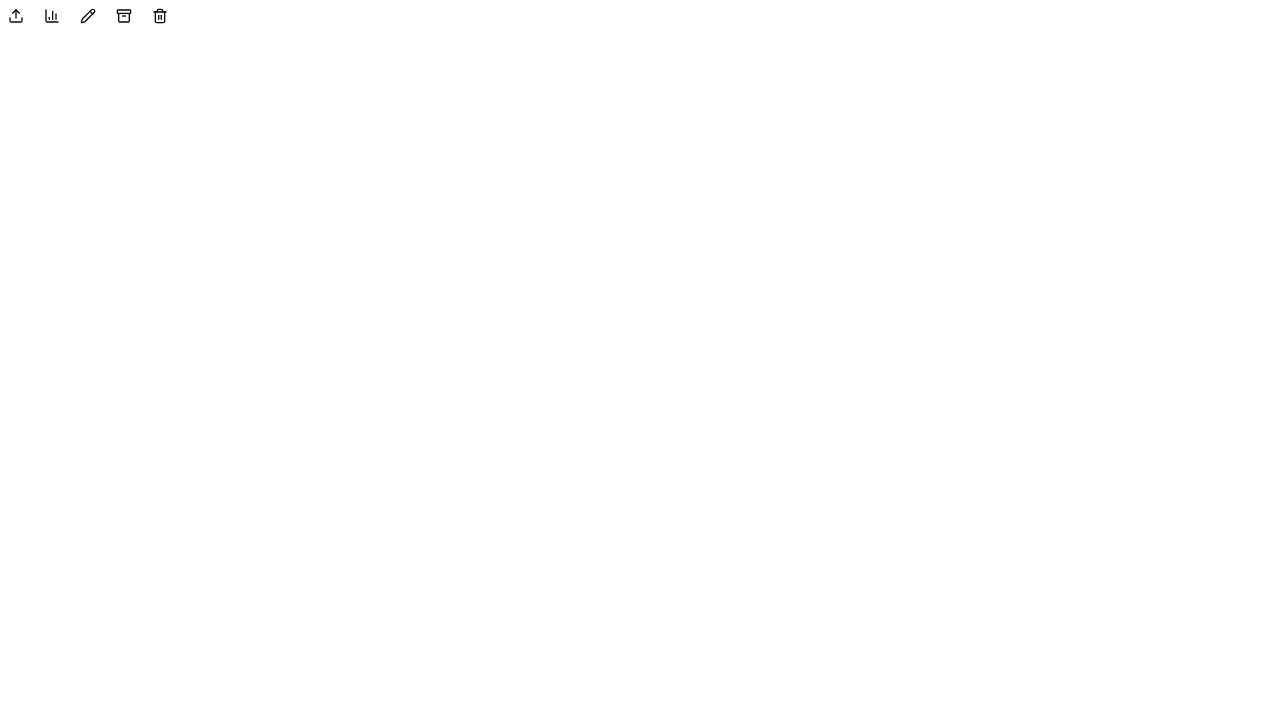
Test case: ProjectActions › opens delete confirmation dialog when Delete project is clicked
Click the button named "delete project": [160, 16] box [144,0,176,32]
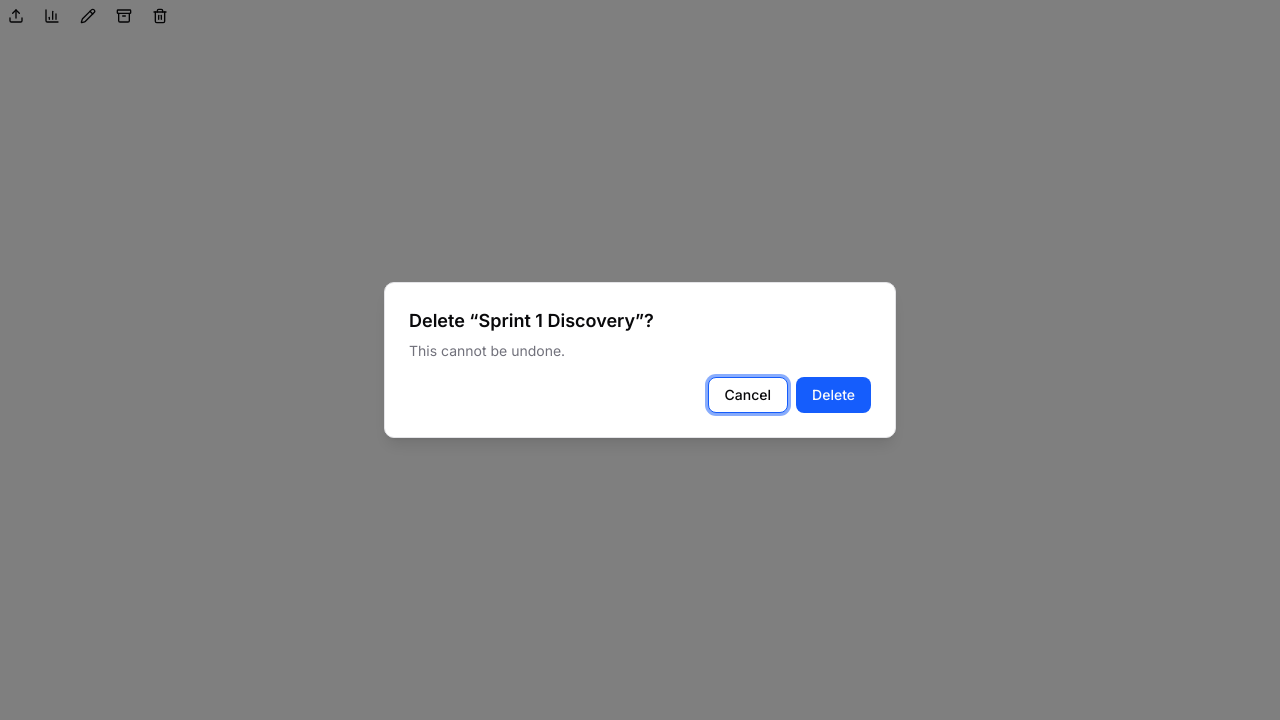
Expected: the dialog is shown, [384,282,896,438]
Expected: the heading "Delete “Sprint 1 Discovery”?" is shown, [409,307,654,335]
